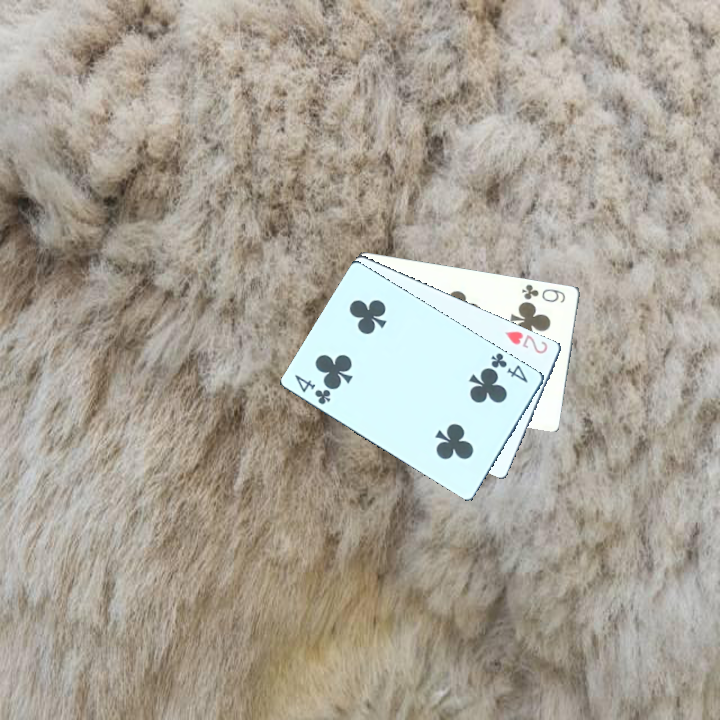2h: (501, 327, 550, 357)
4c: (290, 370, 333, 407), (487, 349, 530, 385)
6c: (517, 280, 568, 305)
